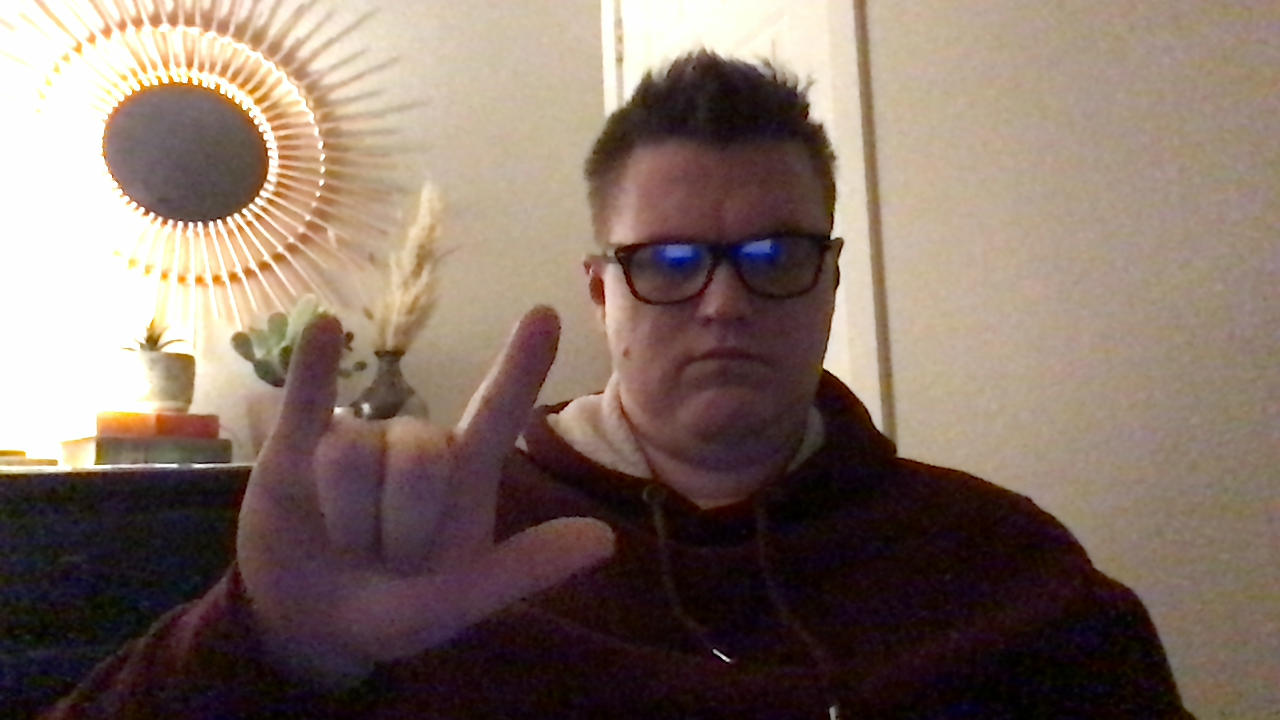iloveyou: (235, 308, 638, 680)
